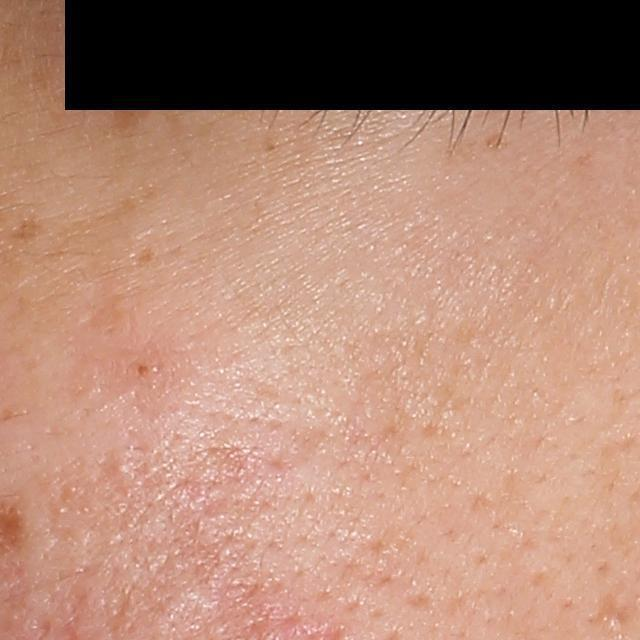atrophic_scar: (585, 590, 635, 632)
melasma: (44, 181, 161, 260), (105, 80, 162, 144), (12, 215, 47, 241), (130, 245, 161, 270)
